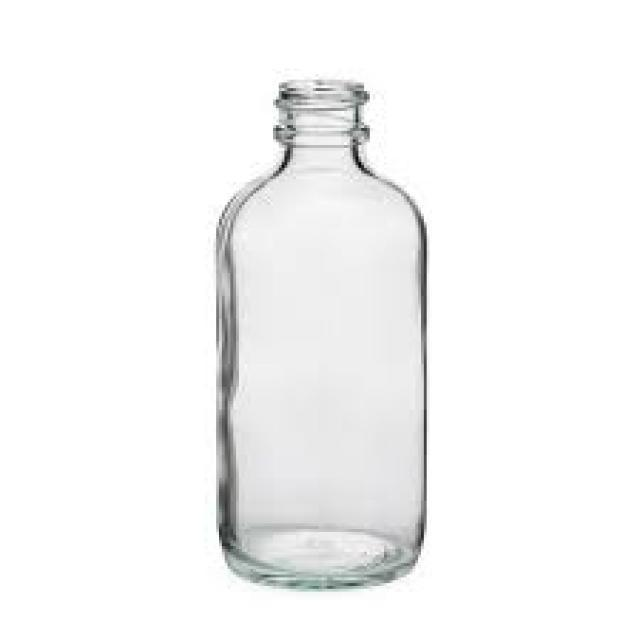Glass: (218, 77, 431, 590)
